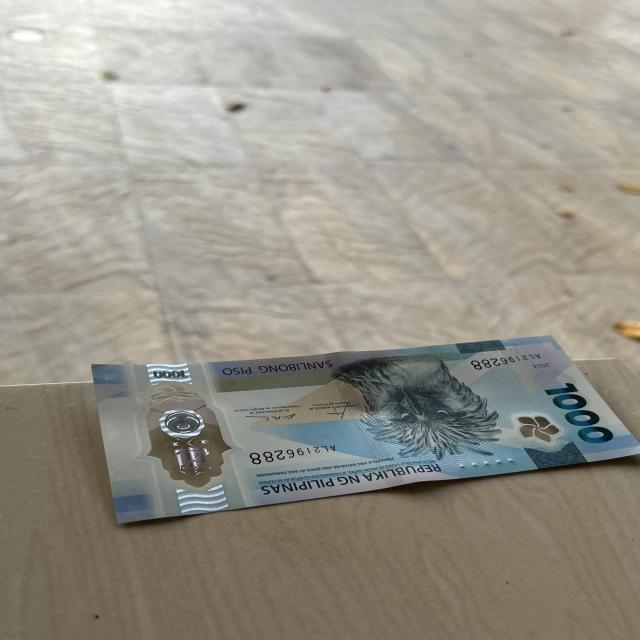clear_window: (131, 374, 228, 490)
eagle: (334, 361, 486, 458)
sampaguita: (517, 412, 557, 446)
